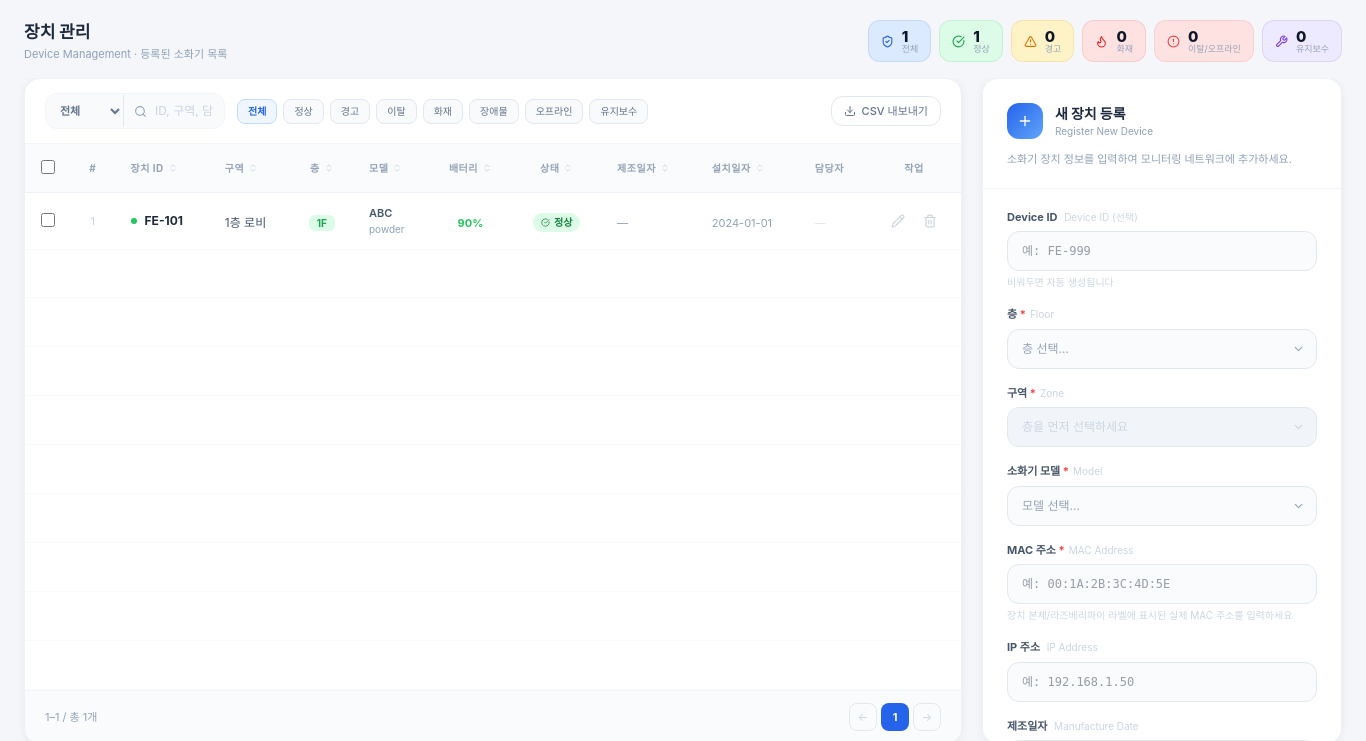
DeviceManagement › populates the edit form when clicking the edit action
This screenshot has width=1366, height=741.
Check: the text "FE-101" is shown, box left=144, top=212, right=183, bottom=230
Click the button titled "장치 수정" at (898, 221), box left=884, top=207, right=912, bottom=235
(page scrolled)
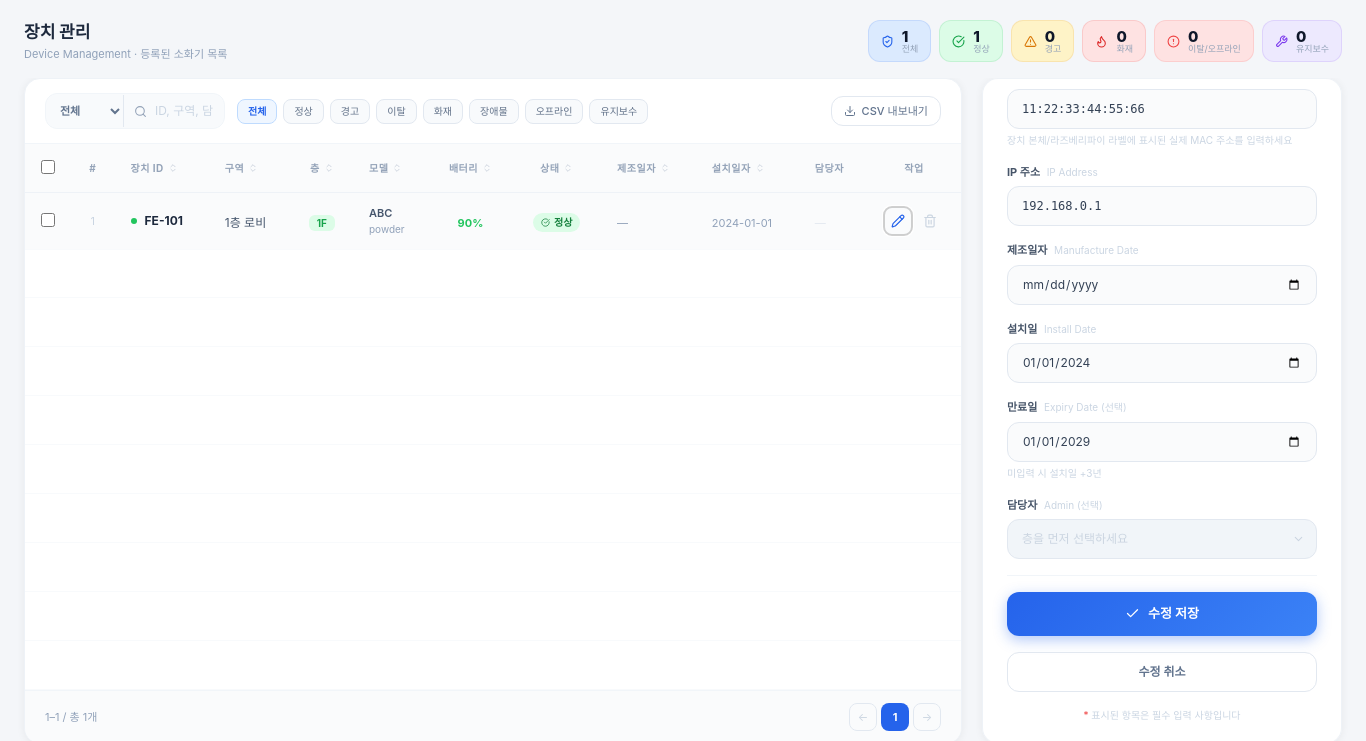
Check: the field showing "11:22:33:44:55:66" below "MAC Address" is shown, box left=1007, top=88, right=1317, bottom=128
Check: the button "수정 저장" is shown, box left=1007, top=592, right=1317, bottom=636
